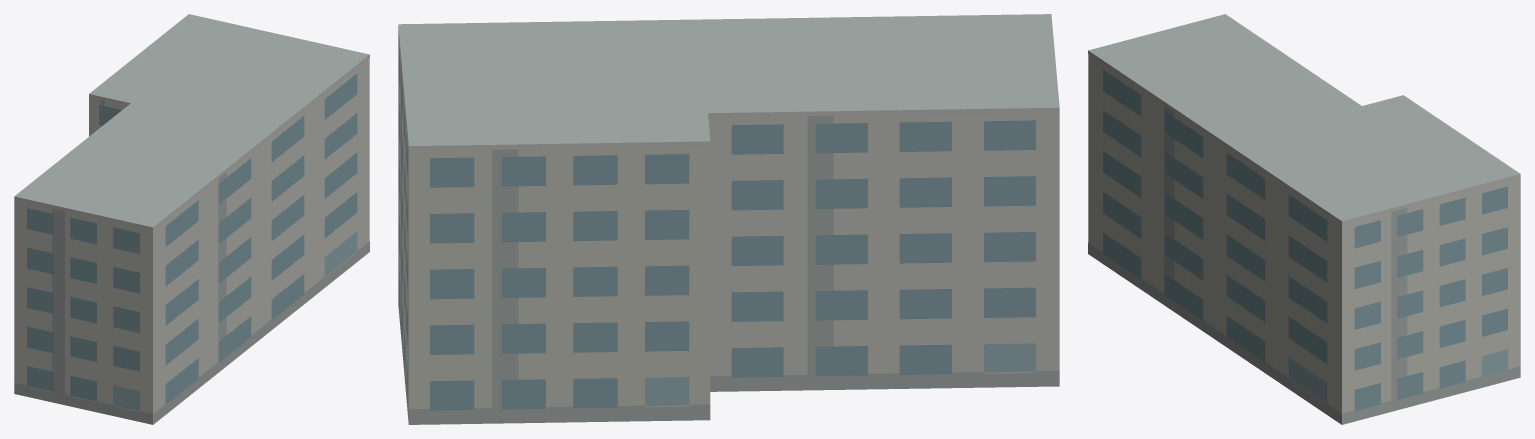
File: residential-4fd1654b-88df-4bec-8d53-394aadad8adb.glb
3 renders of one model, left to right at view 1: azimuth 30°, elevation 25°; view 2: azimuth 150°, elevation 25°; view 3: azimuth 270°, elevation 25°, orthographic. The views are drawn at different scales.
Parts seen in each view (by area): view 1: residential-4fd1654b-88df-4bec-8d53-394aadad8adb.tmp; view 2: residential-4fd1654b-88df-4bec-8d53-394aadad8adb.tmp; view 3: residential-4fd1654b-88df-4bec-8d53-394aadad8adb.tmp.
Boxes of the visible parts, x1=… form: residential-4fd1654b-88df-4bec-8d53-394aadad8adb.tmp: x1=14, y1=14, x2=369, y2=424; residential-4fd1654b-88df-4bec-8d53-394aadad8adb.tmp: x1=398, y1=14, x2=1059, y2=424; residential-4fd1654b-88df-4bec-8d53-394aadad8adb.tmp: x1=1088, y1=14, x2=1520, y2=424.
Size of the model in its own units: 31.02 by 14.2 by 27.35.
